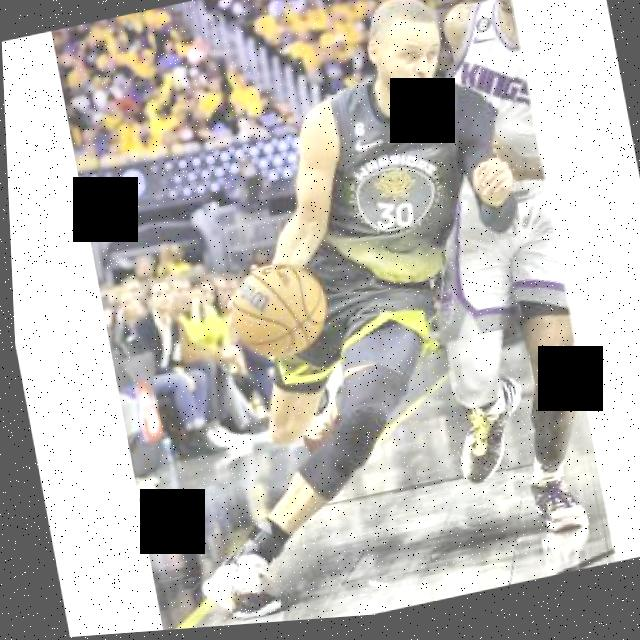shoe: (443, 377, 531, 493), (189, 545, 276, 630), (521, 470, 584, 545)
